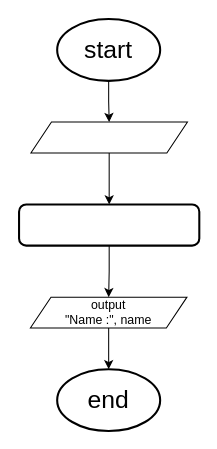
The diagram is 217 pixels wide and 449 high, and some of its shapes have lost their labels. Here are the shapes that lost their labels. From the top down, the box of each, then its label:
(30, 121, 187, 153): output "Enter your name: "
(18, 203, 200, 246): fgets(name, sizeof(name), stdin)
